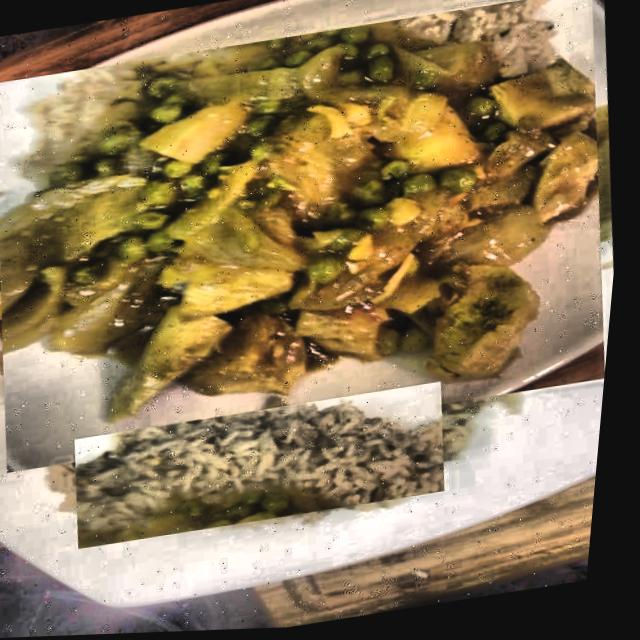Food: (0, 0, 639, 475), (75, 384, 463, 551)
